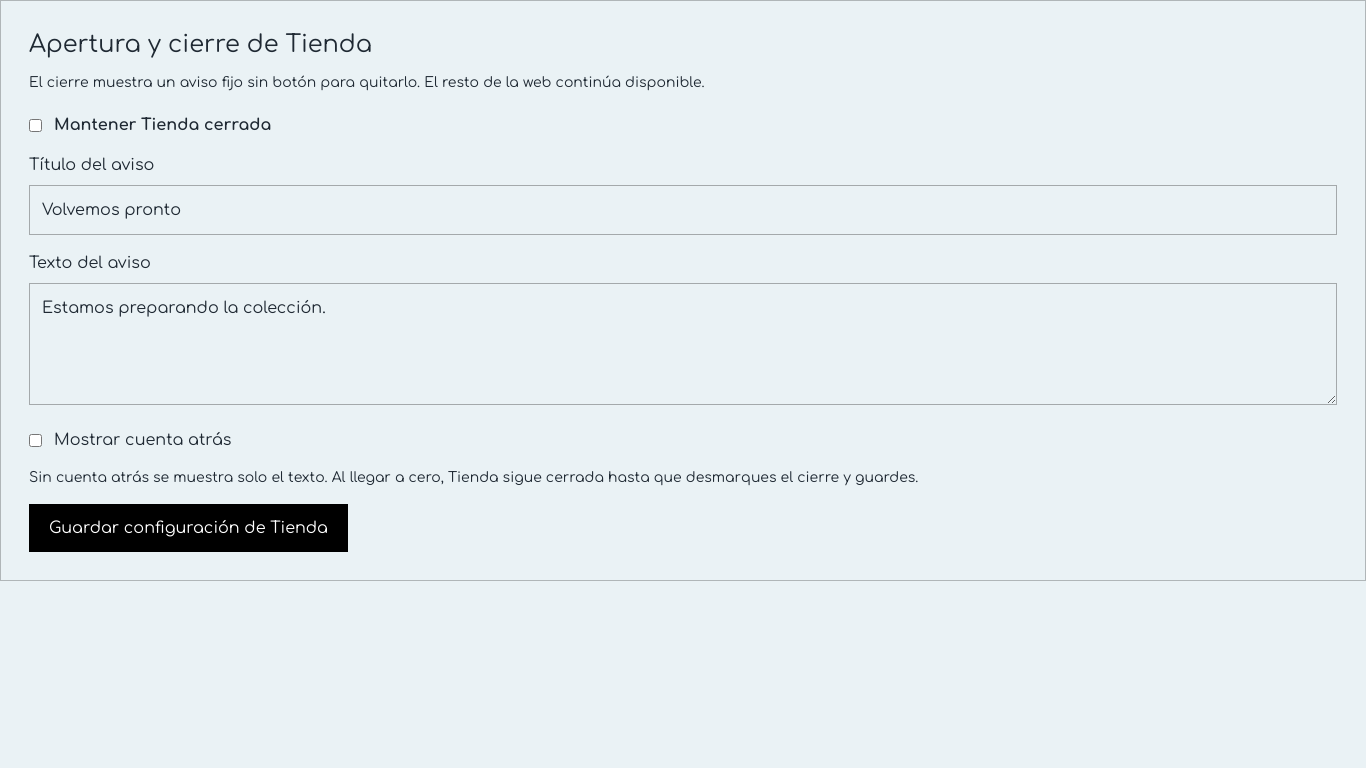
Test: AdminShopSettings › impide activar la cuenta atrás sin una fecha
Click the checkbox labelled "Mostrar cuenta atrás" at (36, 440), box [29,434,42,446]
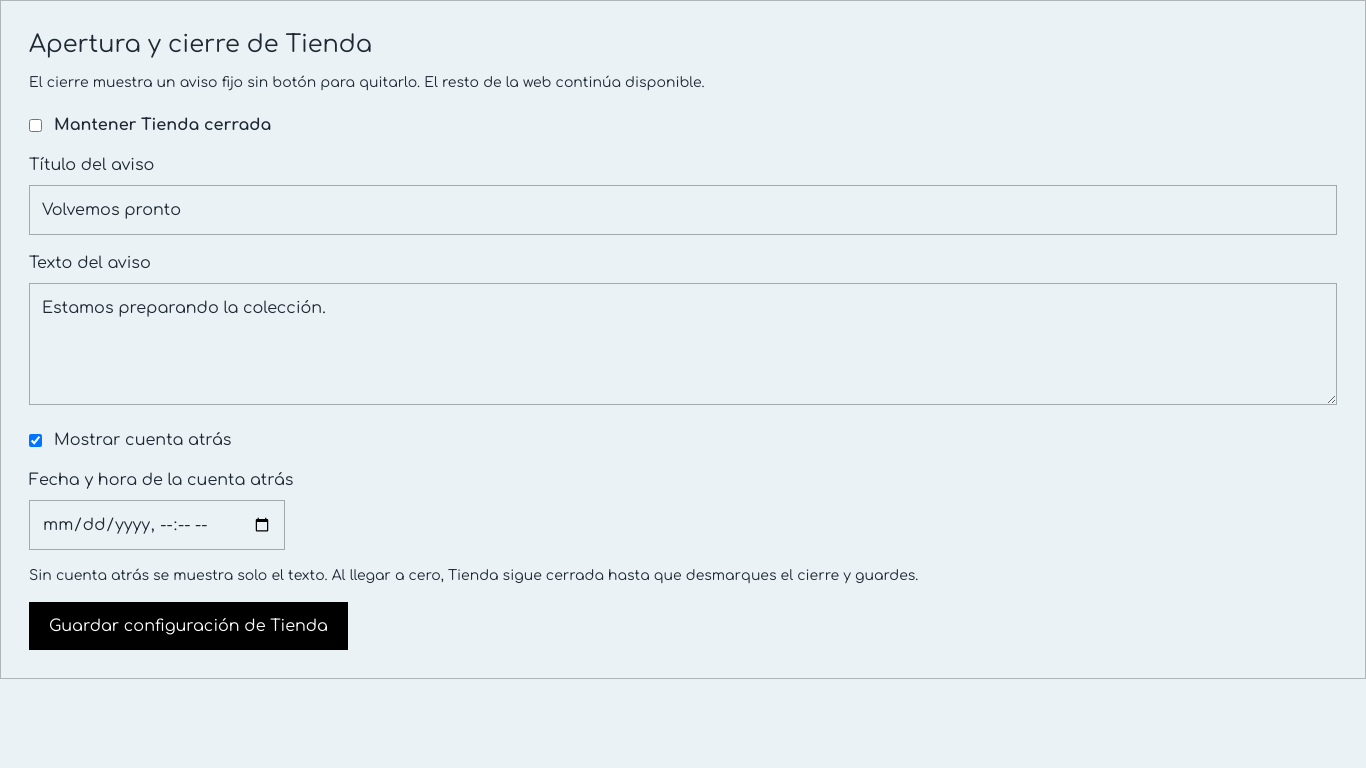
Submit the form
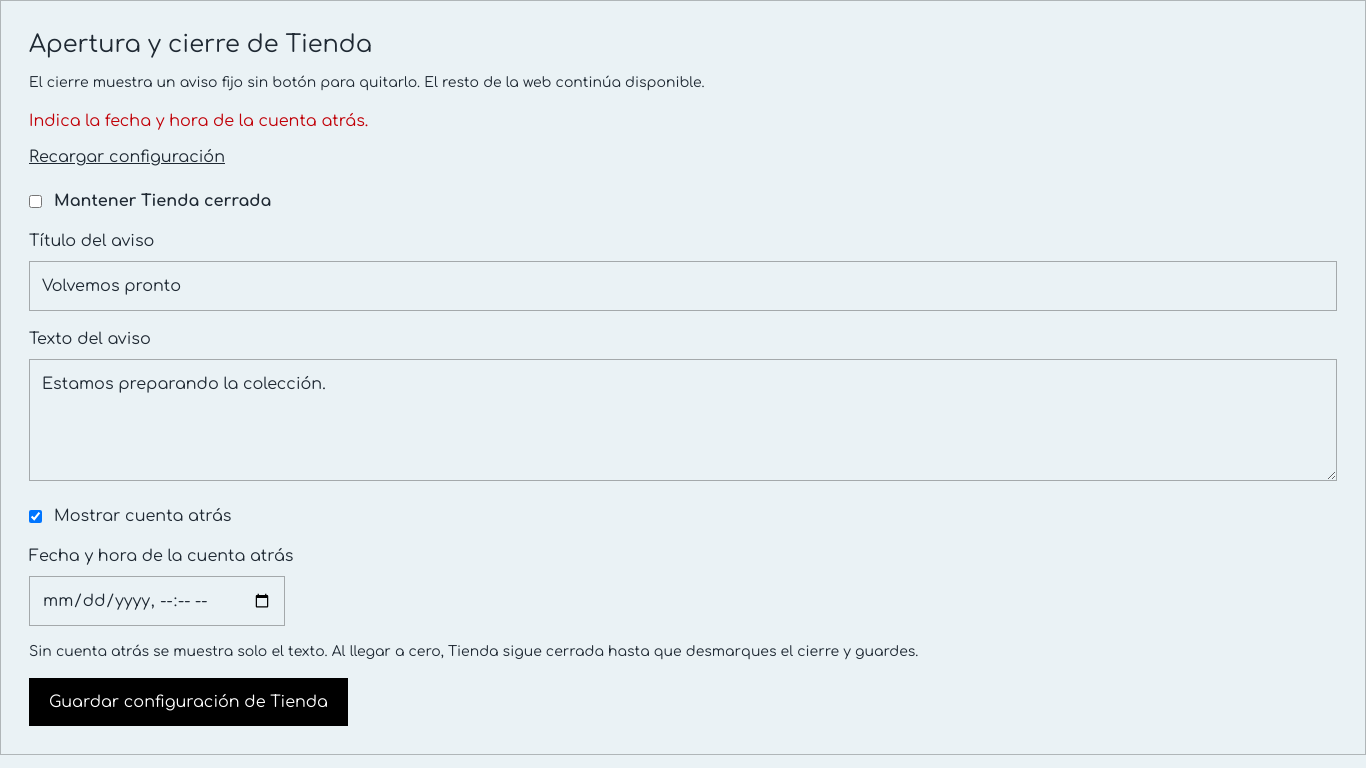
Expected: the message "Indica la fecha y hora de la cuenta atrás." is shown, [29,112,368,130]
